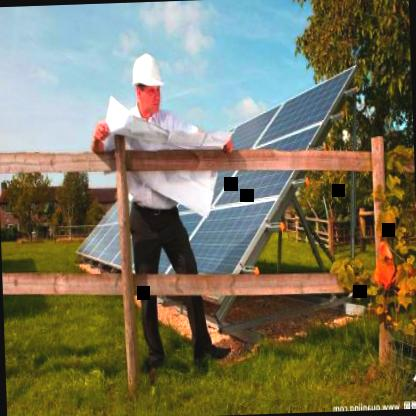helmet: (128, 47, 166, 124)
